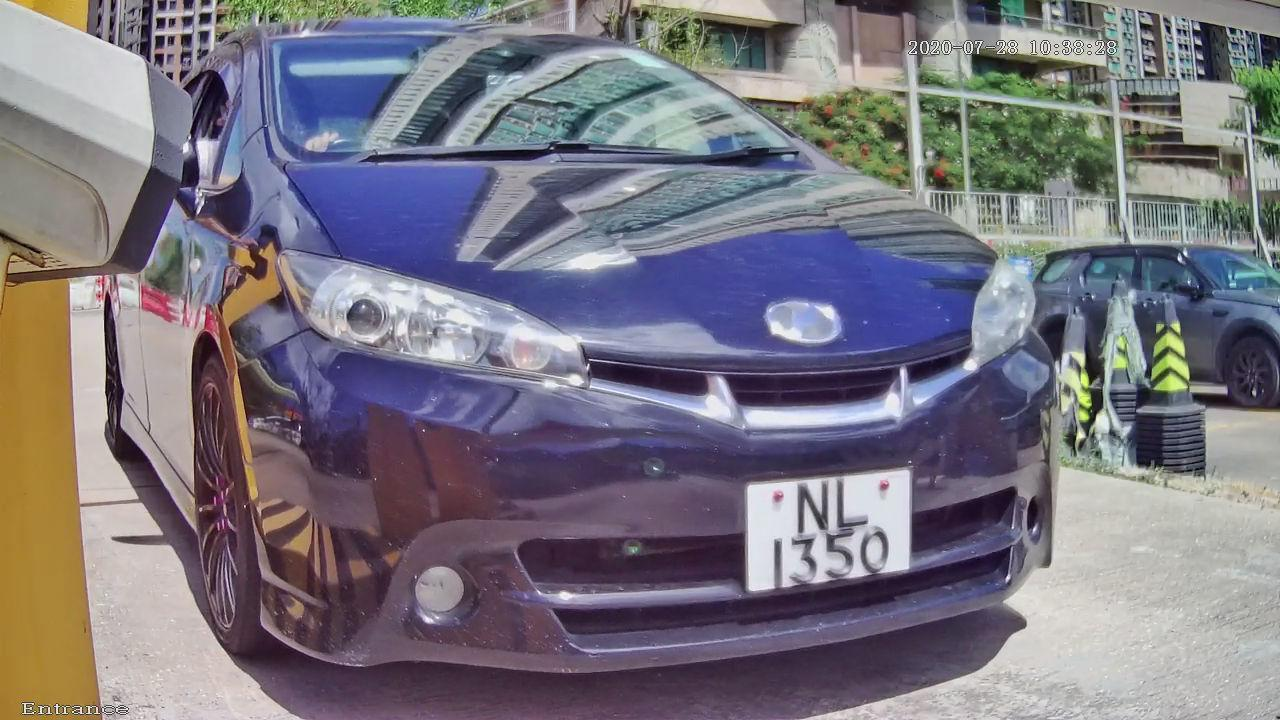privatecar: (58, 23, 1189, 698)
